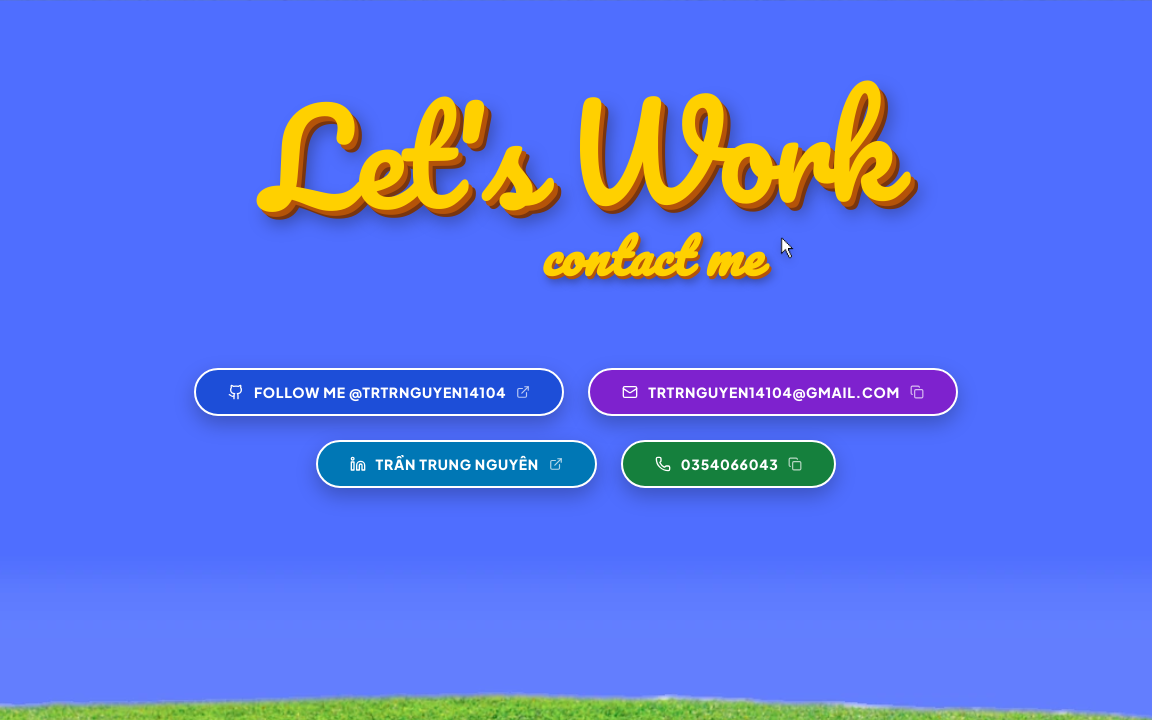
Test: ContactContent Component › copies phone number to clipboard when phone pill is clicked
This screenshot has width=1152, height=720.
Click the button "0354066043" at (729, 464), box [621,440,836,488]
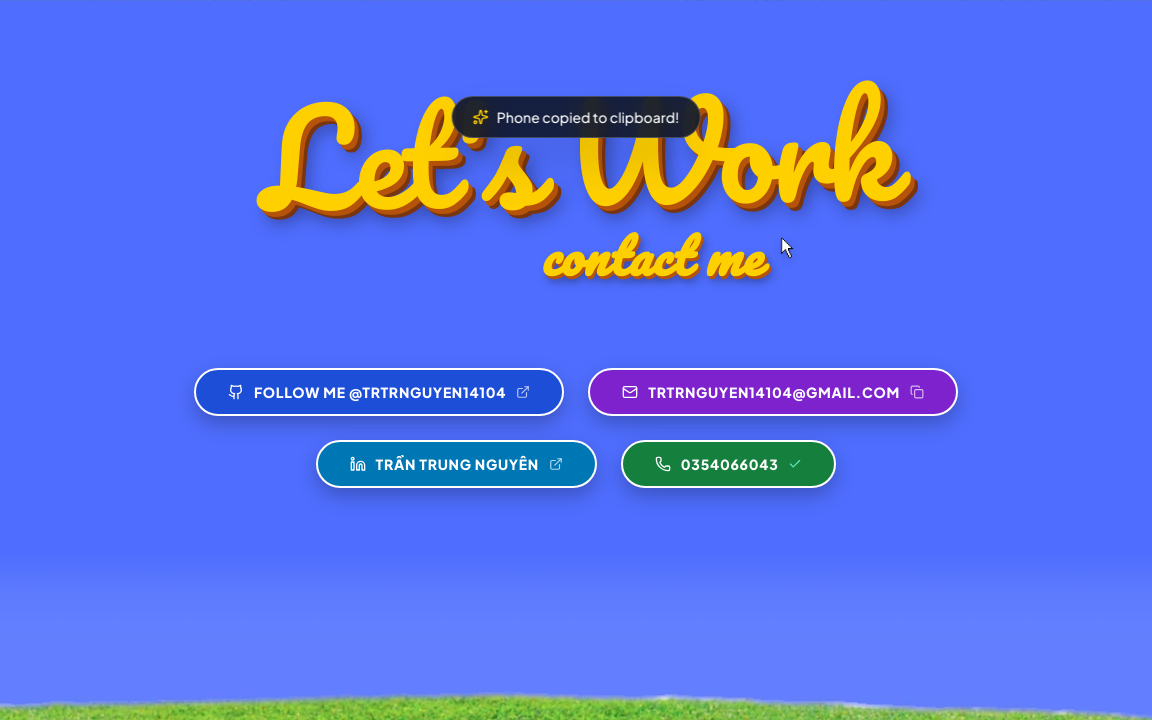
Expected: the text "Phone copied to clipboard!" is shown, [497,107,679,127]
